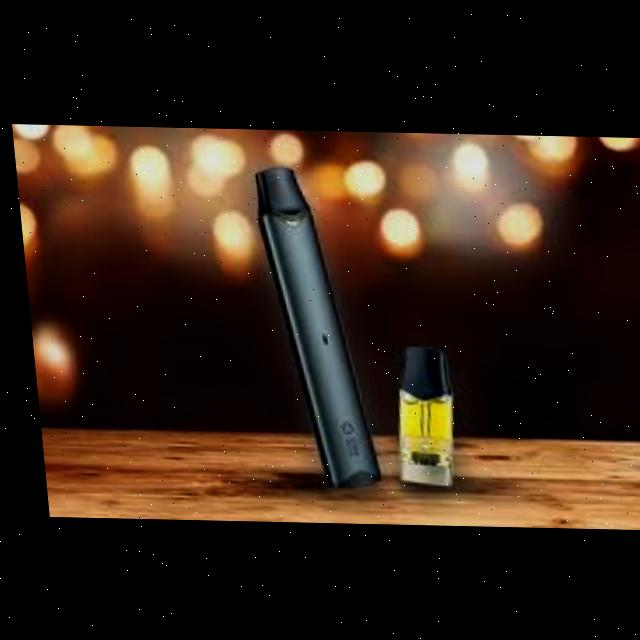vape: (249, 163, 374, 489), (381, 343, 449, 486)
